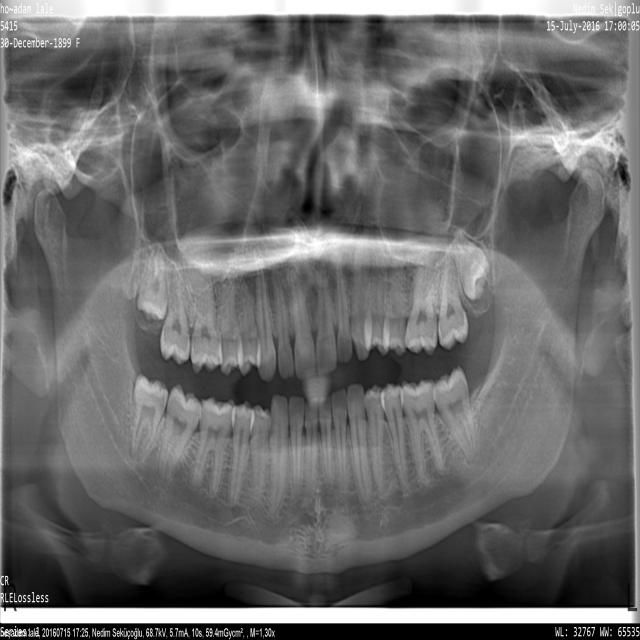Canine: (253, 246, 276, 382), (347, 384, 372, 503), (270, 395, 288, 522), (351, 250, 369, 361)
Incisores: (290, 265, 316, 381), (317, 255, 337, 376), (274, 271, 294, 379), (337, 257, 352, 364), (332, 389, 348, 489), (289, 397, 304, 503), (305, 397, 318, 504), (319, 396, 333, 487)
Premolars: (381, 384, 409, 490), (228, 402, 253, 513), (219, 267, 243, 377), (366, 385, 388, 497), (238, 276, 260, 376), (250, 406, 271, 510), (368, 248, 388, 356), (387, 254, 406, 356)
molars: (191, 396, 235, 496), (433, 366, 478, 462), (402, 381, 444, 483), (159, 384, 200, 482), (405, 250, 442, 356), (130, 374, 168, 461), (191, 272, 220, 373), (450, 228, 490, 301), (160, 271, 190, 366), (438, 262, 468, 351), (137, 244, 168, 321)
